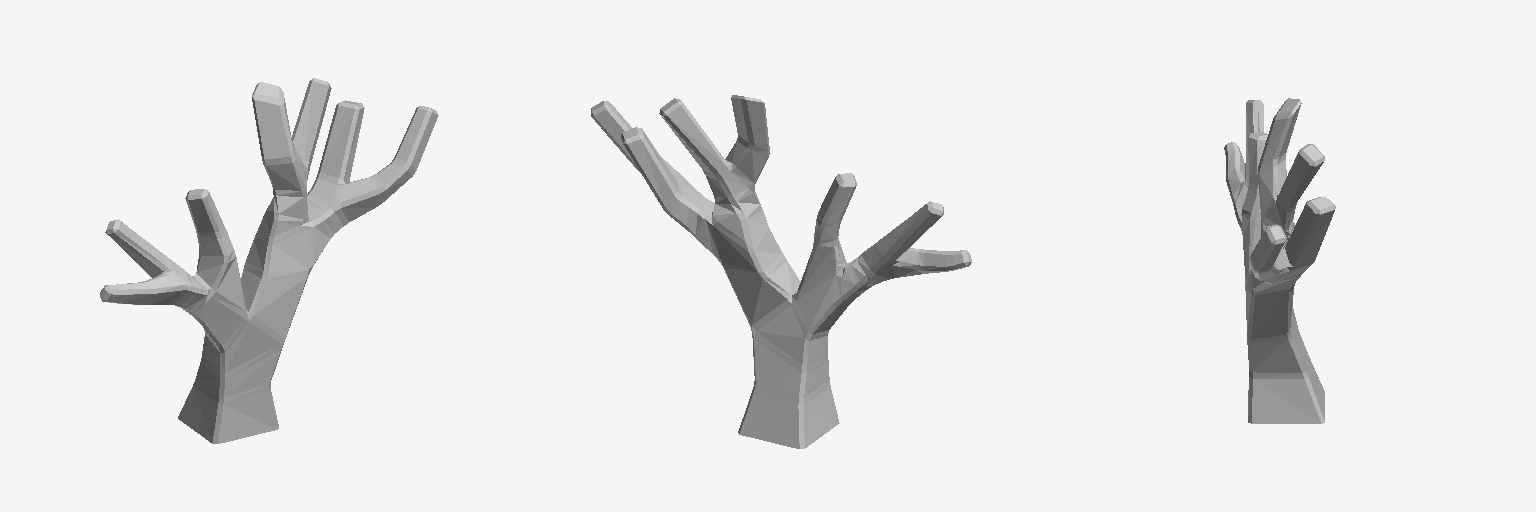
File: DeadTree_3.obj
3 renders of one model, left to right at view 1: azimuth 30°, elevation 25°; view 2: azimuth 150°, elevation 25°; view 3: azimuth 270°, elevation 25°, orthographic.
Parts seen in each view (by area): view 1: DeadTree_3_Cube.533; view 2: DeadTree_3_Cube.533; view 3: DeadTree_3_Cube.533.
Boxes of the visible parts, box(x1,y1,x2,y2) form: DeadTree_3_Cube.533: box(100, 78, 438, 443); DeadTree_3_Cube.533: box(591, 95, 971, 448); DeadTree_3_Cube.533: box(1224, 98, 1335, 423).
Bounding box in the file's own units: 5.72 × 4.99 × 1.55.